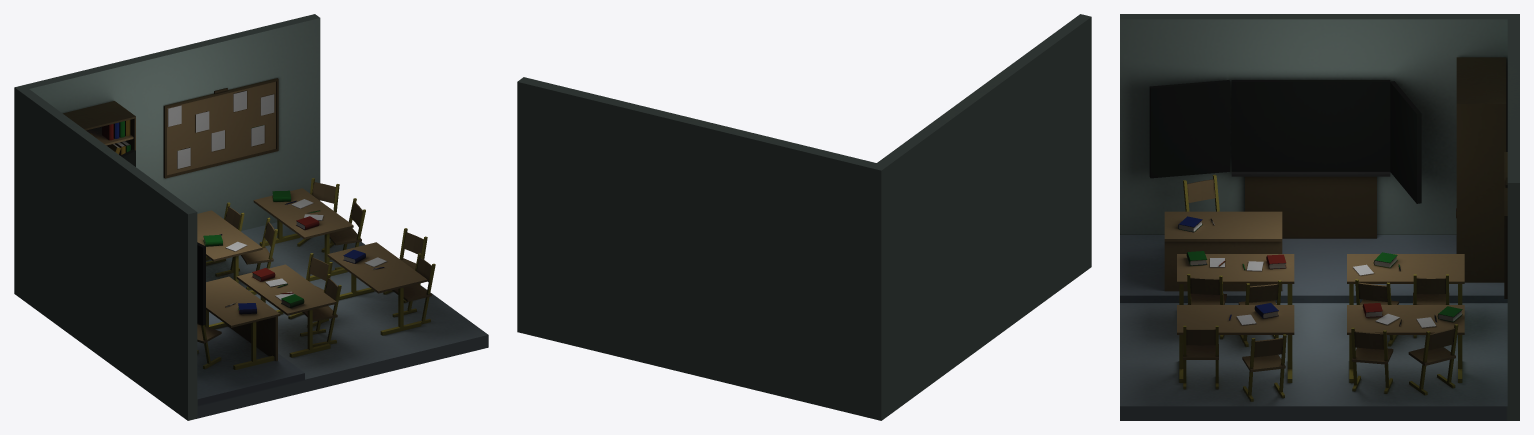
The picture shows the model from 3 angles, left to right: view 1: azimuth 30°, elevation 25°; view 2: azimuth 150°, elevation 25°; view 3: azimuth 270°, elevation 25°; orthographic projection. The views are drawn at different scales.
Visible parts, largest first — view 1: school; view 2: school; view 3: school.
Part boxes in pixels (<box>): school: <box>14,14,488,420</box>; school: <box>517,14,1091,420</box>; school: <box>1120,14,1519,420</box>.
Size of the model in its own units: 425 by 279 by 425.
1 material, 1 textured.
